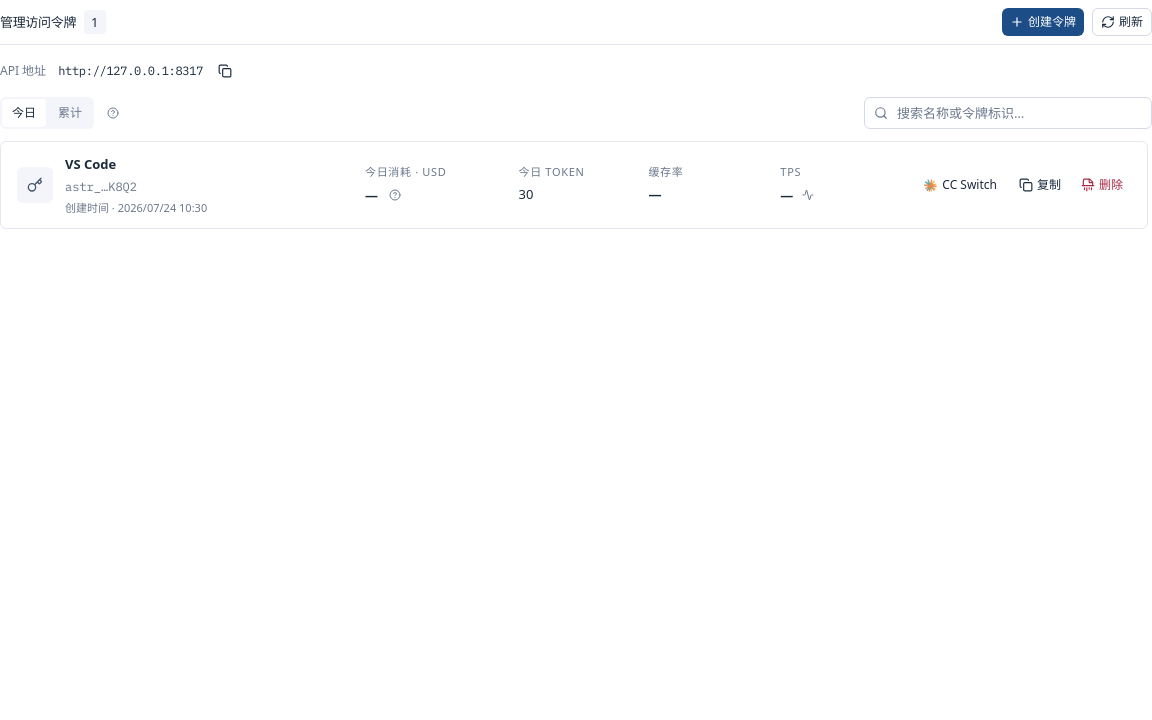
it: AccessTokenManager › distinguishes unpriced costs from zero and retains costs after refresh failure
The width and height of the screenshot is (1152, 720).
Click the radio button labelled "累计": [70, 113] box [48,99,92,127]
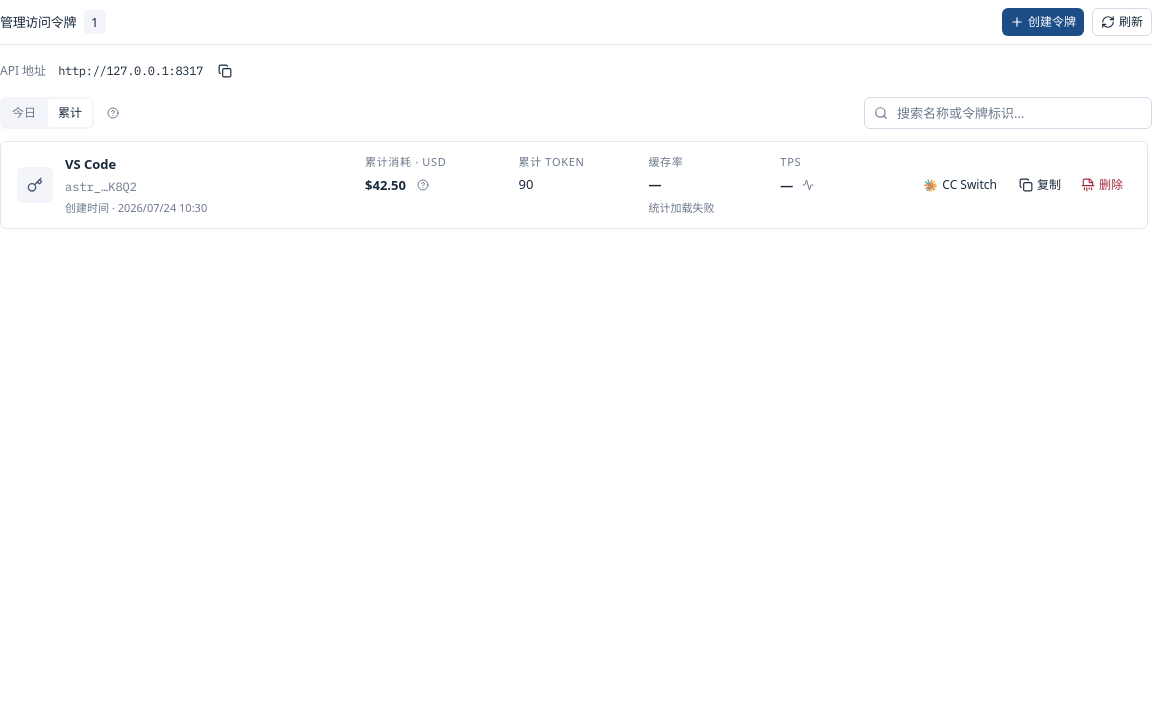
Click the button named "统计状态": [423, 185] box [412,174,434,196]
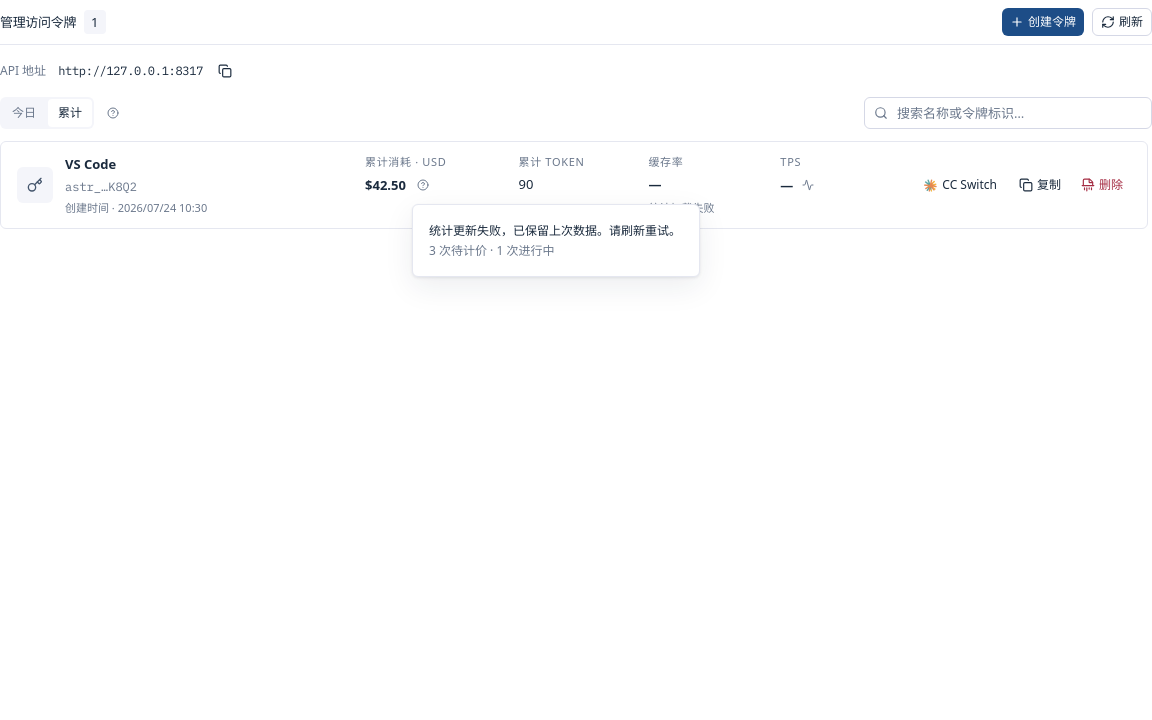
Expected: the text "统计更新失败" is shown, [429,222,681,239]
